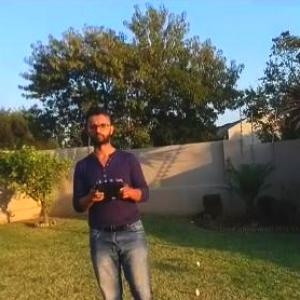follow: (70, 100, 164, 299)
